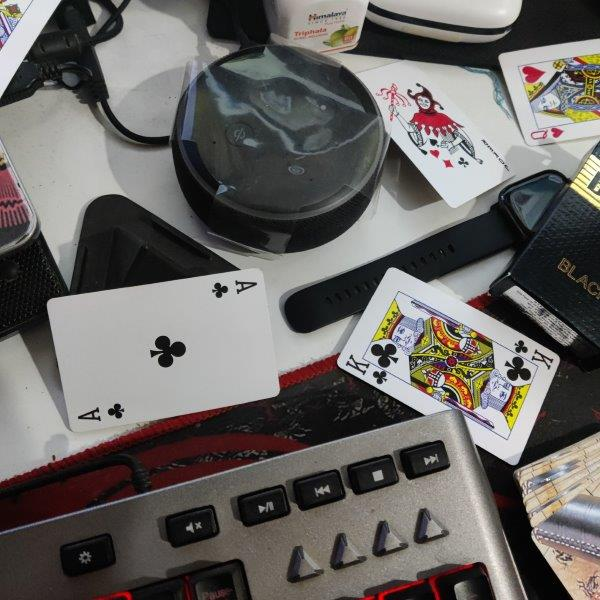Ace of Clubs: (46, 268, 282, 433)
Joker: (353, 59, 518, 209)
King of Clubs: (337, 267, 562, 466)
Queen of Hearts: (498, 39, 600, 147)
